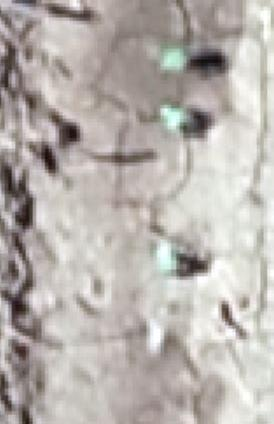cotton: (164, 110, 189, 129), (162, 49, 185, 69), (162, 254, 176, 274)
